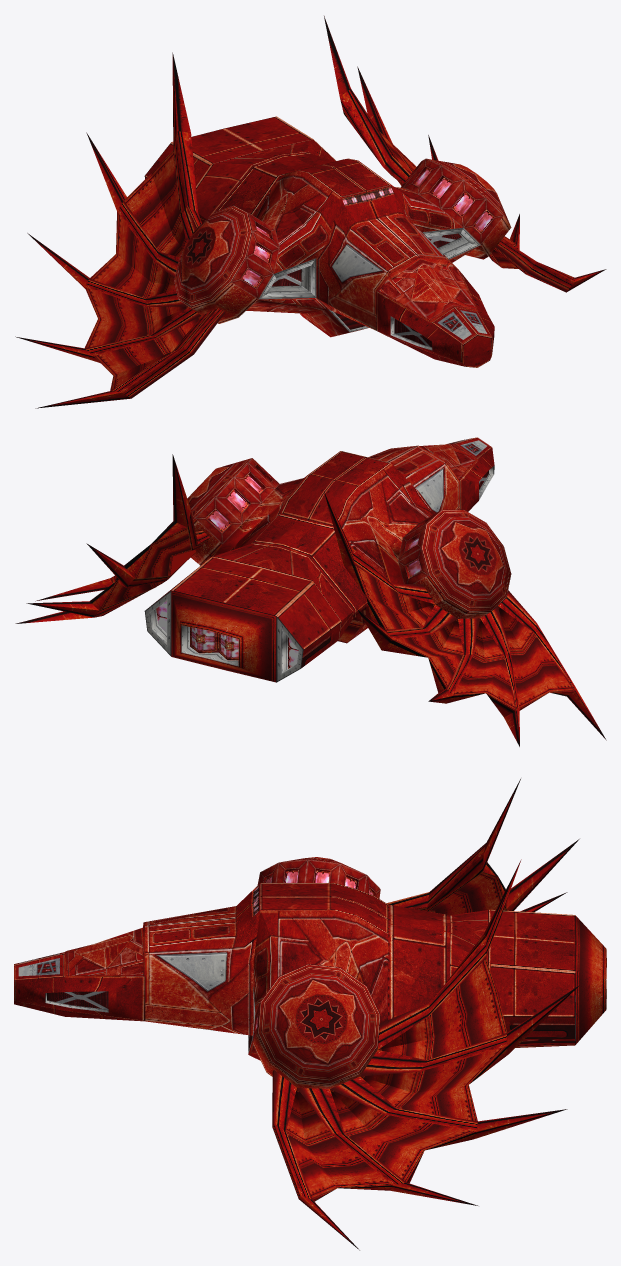
The model's file is kpx.obj.
3 views of the same model, one above another, from view 1: azimuth 30°, elevation 25°; view 2: azimuth 150°, elevation 25°; view 3: azimuth 270°, elevation 25° (orthographic). The views are drawn at different scales.
Visible parts, largest first — view 1: kusari_snub; view 2: kusari_snub; view 3: kusari_snub.
Part boxes in pixels (x1=…): kusari_snub: x1=15, y1=16, x2=606, y2=408; kusari_snub: x1=15, y1=437, x2=606, y2=746; kusari_snub: x1=14, y1=779, x2=606, y2=1250.
Bounding box in the file's own units: 30.08 × 12.69 × 24.37.
Materials: 8 (7 with a texture image).
